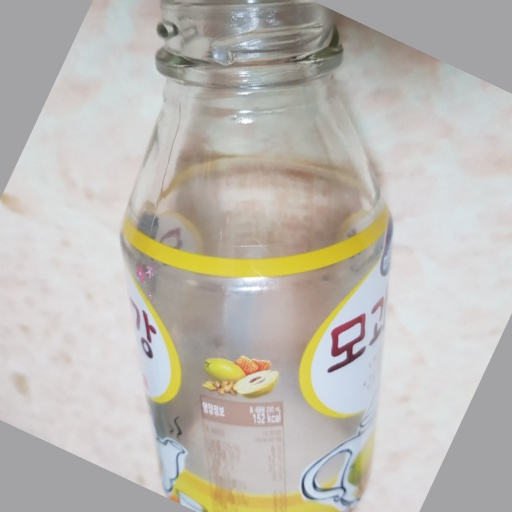Glass_4: (122, 1, 396, 512)
